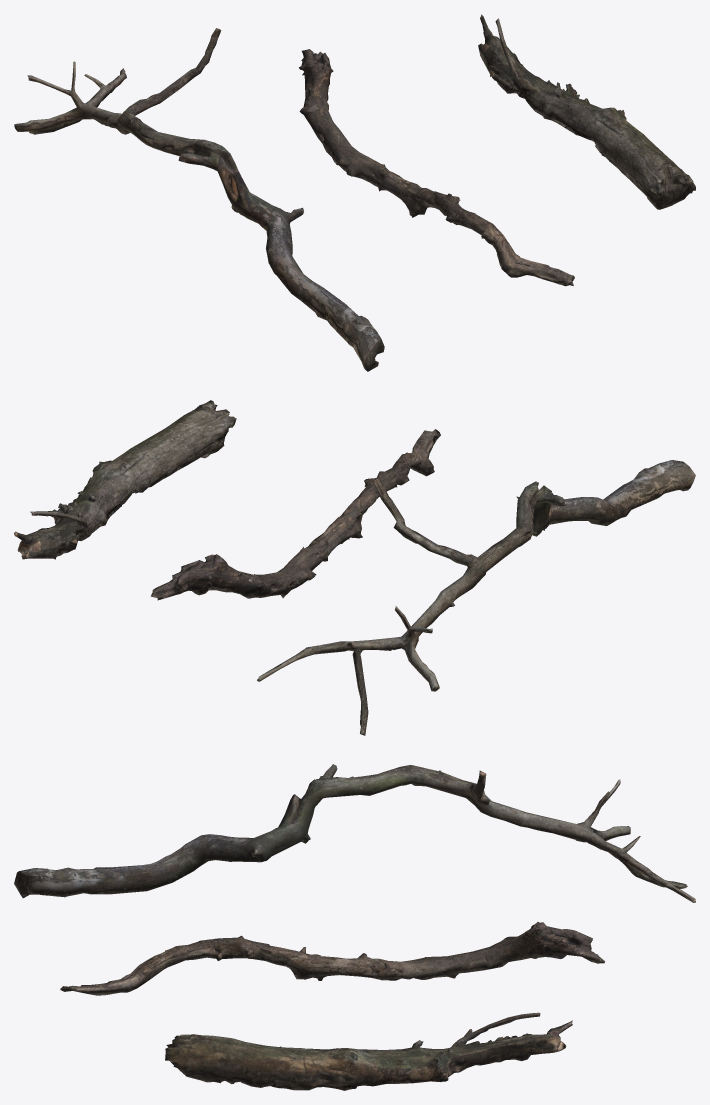
Rendered from dry_branches_medium_01.glb.
The picture shows the model from 3 angles, top to bottom: view 1: azimuth 30°, elevation 25°; view 2: azimuth 150°, elevation 25°; view 3: azimuth 270°, elevation 25°; orthographic projection. The views are drawn at different scales.
Parts seen in each view (by area): view 1: dry_branches_medium_01_a, dry_branches_medium_01_c, dry_branches_medium_01_b; view 2: dry_branches_medium_01_a, dry_branches_medium_01_c, dry_branches_medium_01_b; view 3: dry_branches_medium_01_a, dry_branches_medium_01_c, dry_branches_medium_01_b.
Part boxes in pixels (<box>): dry_branches_medium_01_a: <box>14,28,384,371</box>; dry_branches_medium_01_c: <box>478,14,695,209</box>; dry_branches_medium_01_b: <box>299,49,574,286</box>; dry_branches_medium_01_a: <box>257,460,695,735</box>; dry_branches_medium_01_c: <box>14,400,236,559</box>; dry_branches_medium_01_b: <box>150,429,440,600</box>; dry_branches_medium_01_a: <box>14,764,695,902</box>; dry_branches_medium_01_c: <box>165,1012,572,1090</box>; dry_branches_medium_01_b: <box>60,922,605,995</box>.
Bounding box in the file's own units: 1.06 × 0.3401 × 1.3.
Materials: 1 (1 with a texture image).
